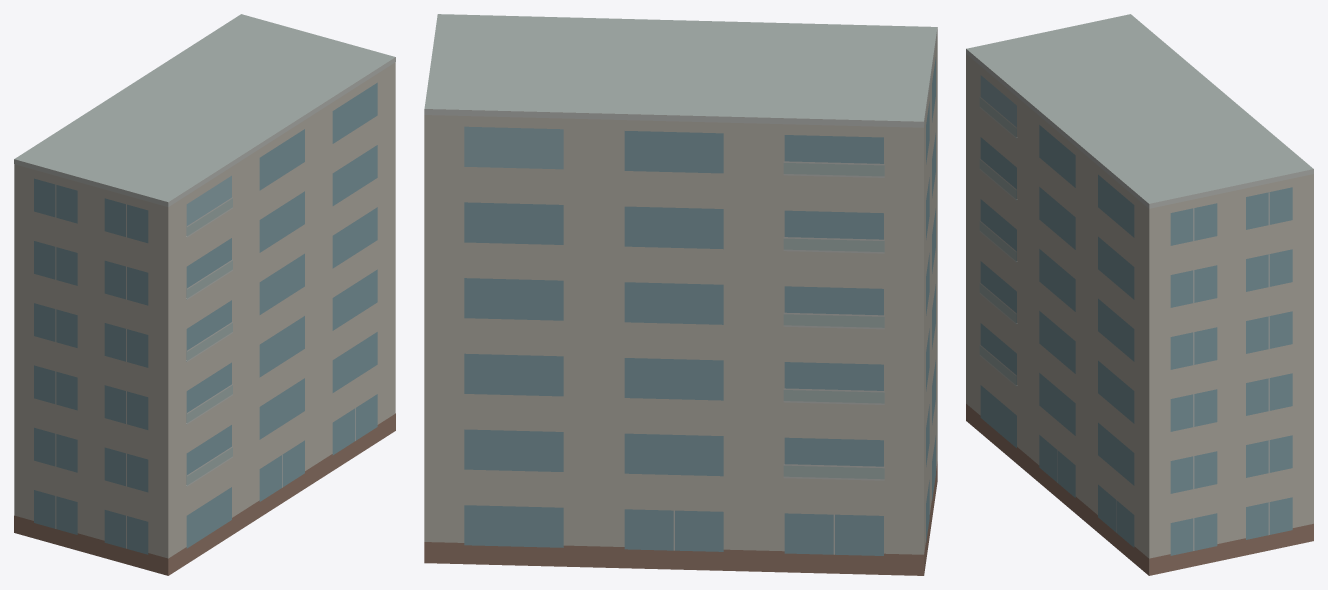
Rendered from survey-upis-32962227.glb.
3 views of the same model, side by side, from view 1: azimuth 30°, elevation 25°; view 2: azimuth 150°, elevation 25°; view 3: azimuth 270°, elevation 25° (orthographic). The views are drawn at different scales.
Parts seen in each view (by area): view 1: survey-upis-32962227.tmp; view 2: survey-upis-32962227.tmp; view 3: survey-upis-32962227.tmp.
Boxes of the visible parts, x1,y1,x2,y2 form: survey-upis-32962227.tmp: (14, 14, 395, 575); survey-upis-32962227.tmp: (424, 14, 937, 575); survey-upis-32962227.tmp: (966, 14, 1313, 575).
Size of the model in its own units: 20.04 by 18.3 by 15.51.
